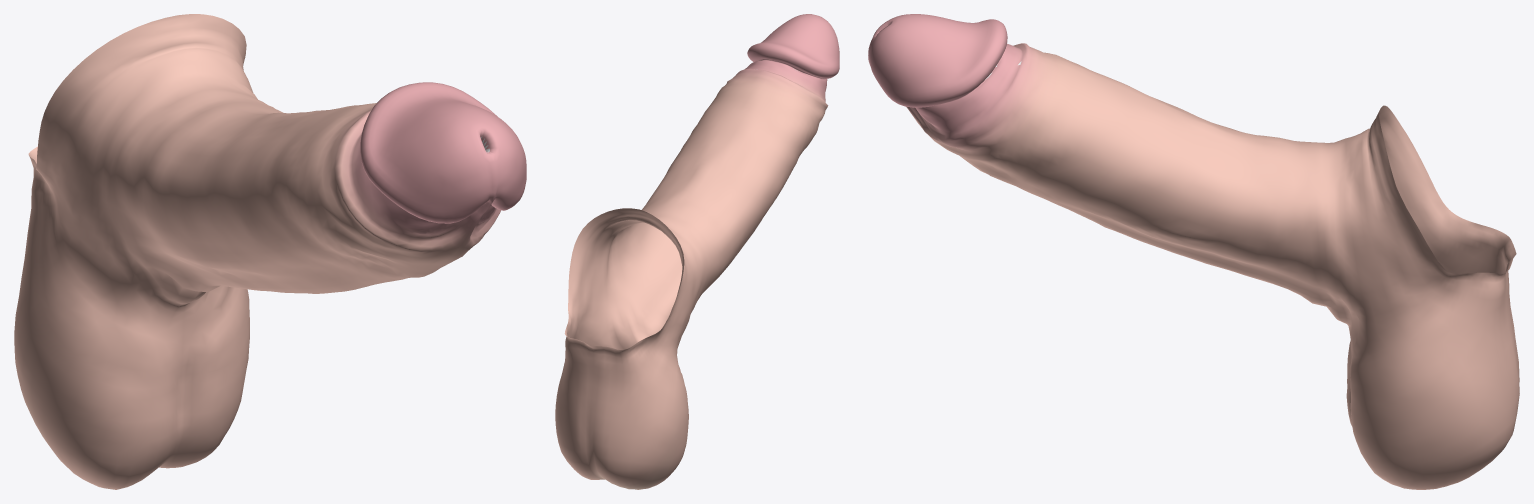
Rendered from cock3.glb.
3 renders of one model, left to right at view 1: azimuth 30°, elevation 25°; view 2: azimuth 150°, elevation 25°; view 3: azimuth 270°, elevation 25°, orthographic. The views are drawn at different scales.
Parts seen in each view (by area): view 1: Penis_Human_0; view 2: Penis_Human_0; view 3: Penis_Human_0.
Boxes of the visible parts, x1=… form: Penis_Human_0: x1=14, y1=14, x2=526, y2=489; Penis_Human_0: x1=555, y1=14, x2=839, y2=489; Penis_Human_0: x1=868, y1=14, x2=1519, y2=489.
Size of the model in its own units: 0.0619 by 0.1721 by 0.2209.
Materials: 2 (1 with a texture image).
